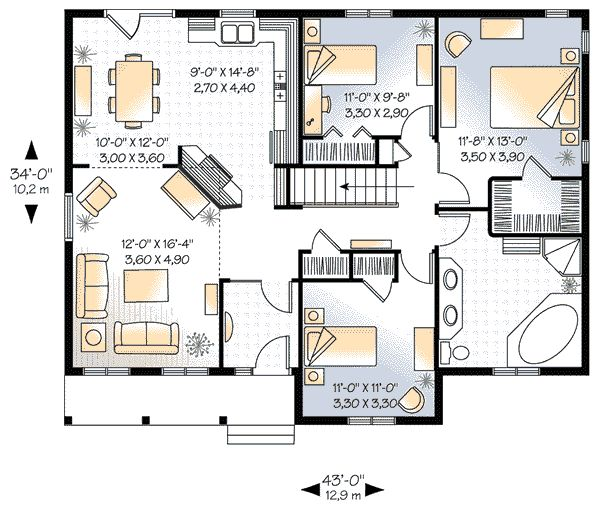door: (250, 329, 293, 363), (257, 287, 297, 319), (442, 213, 475, 248), (442, 169, 474, 205), (400, 259, 434, 289), (405, 106, 434, 129)
room: (63, 6, 306, 380), (434, 1, 592, 183), (296, 2, 440, 171), (432, 231, 588, 382), (296, 275, 442, 431)
window: (346, 414, 398, 430), (343, 6, 394, 22), (490, 365, 542, 380), (80, 363, 133, 377), (158, 365, 211, 379), (217, 3, 258, 20), (63, 191, 75, 243), (543, 7, 571, 22), (578, 29, 594, 55), (578, 138, 592, 167), (231, 366, 256, 377)
